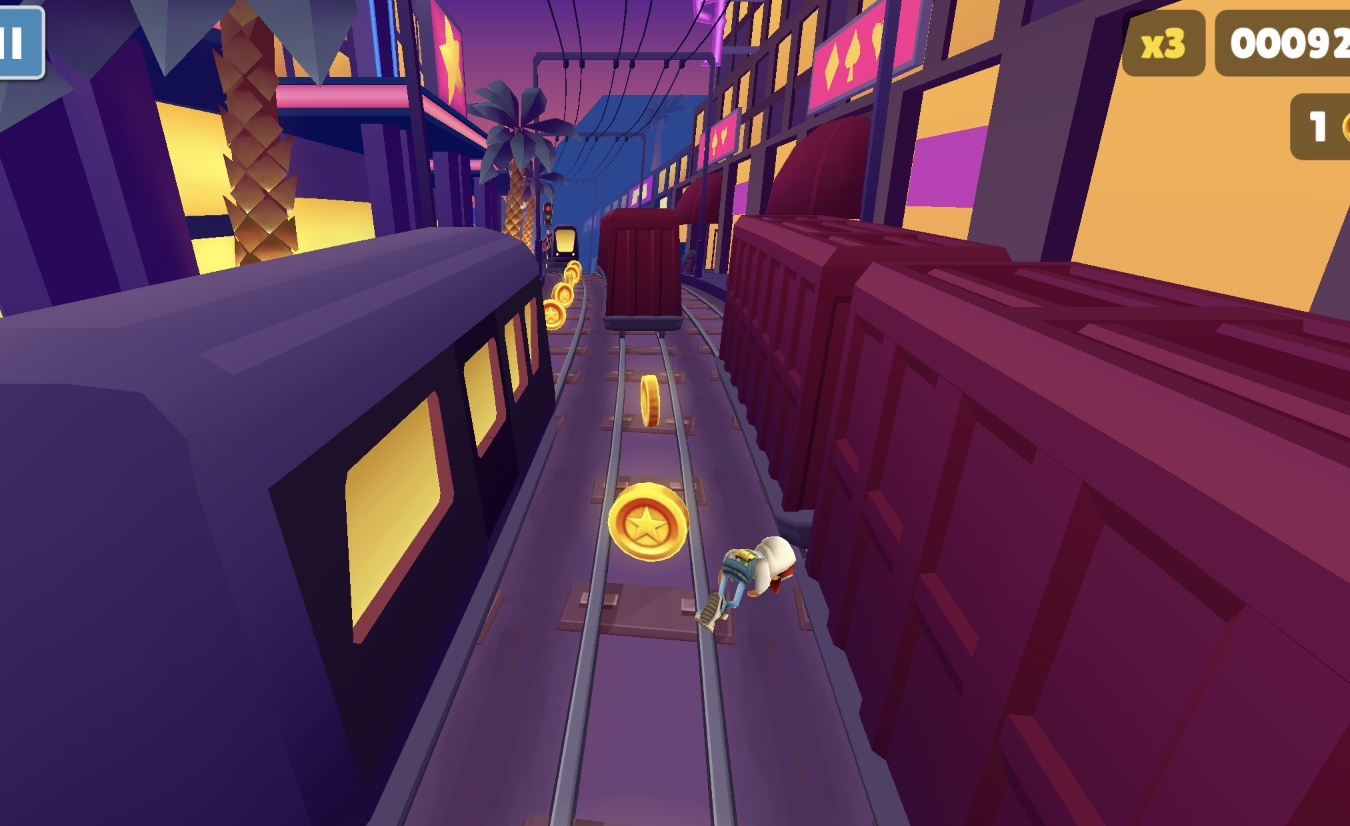train: (717, 212, 1350, 826), (0, 233, 555, 826), (595, 209, 689, 335), (550, 225, 581, 271)
